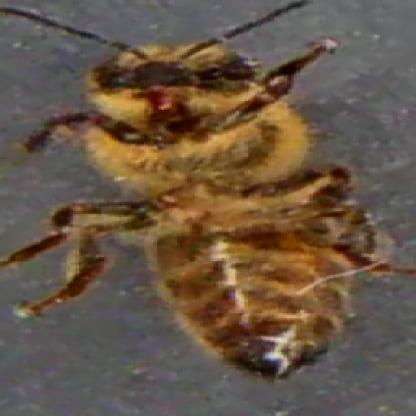bee: (77, 29, 379, 370)
